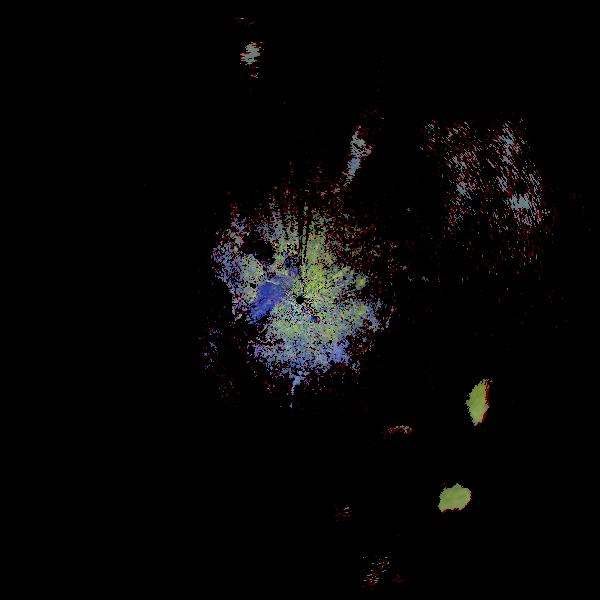roost: (444, 341, 594, 491), (343, 406, 463, 526), (421, 467, 520, 566)
